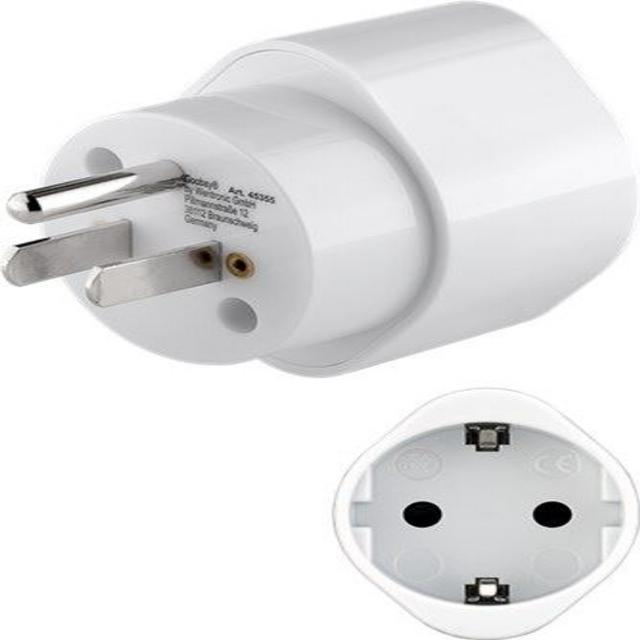typeb: (288, 376, 640, 640)
